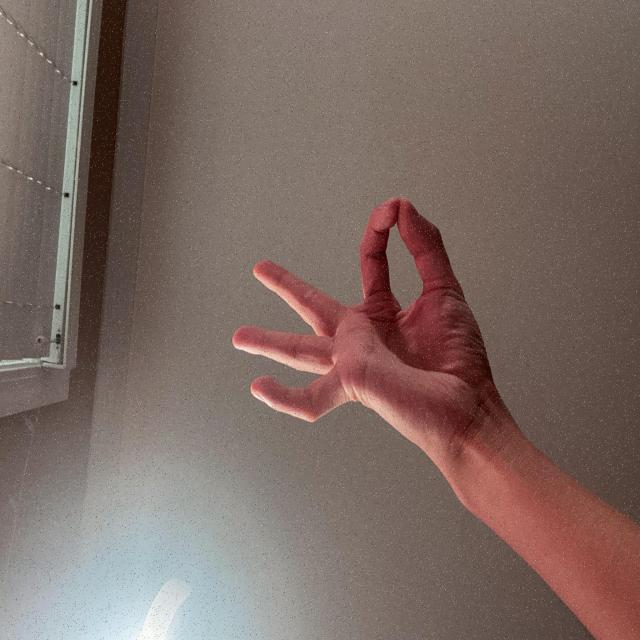F: (147, 305, 336, 640)
